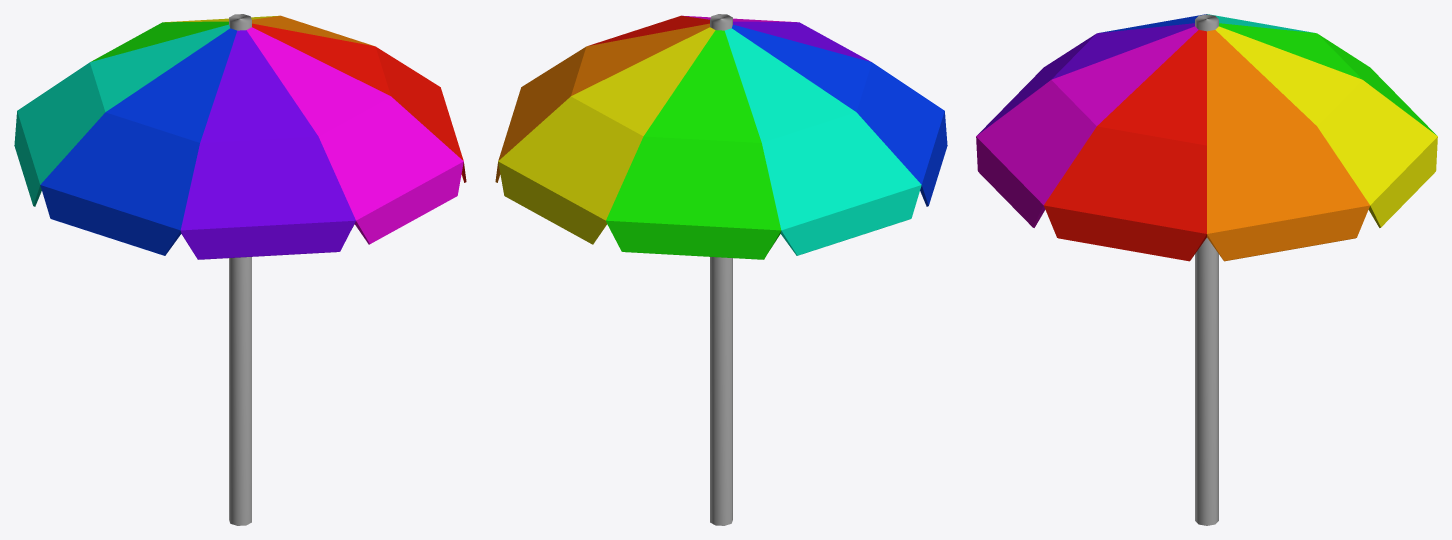
The model's file is Sombrilla.fbx.
3 views of the same model, side by side, from view 1: azimuth 30°, elevation 25°; view 2: azimuth 150°, elevation 25°; view 3: azimuth 270°, elevation 25° (orthographic).
Parts seen in each view (by area): view 1: Cylinder.001, Cylinder; view 2: Cylinder.001, Cylinder; view 3: Cylinder.001, Cylinder.
Part boxes in pixels (x1,y1,x2,y2): Cylinder.001: (14,15,466,259); Cylinder: (229,14,251,525); Cylinder.001: (495,15,947,259); Cylinder: (710,14,732,525); Cylinder.001: (976,14,1437,261); Cylinder: (1195,14,1218,525).
Size of the model in its own units: 727 by 872 by 727.
